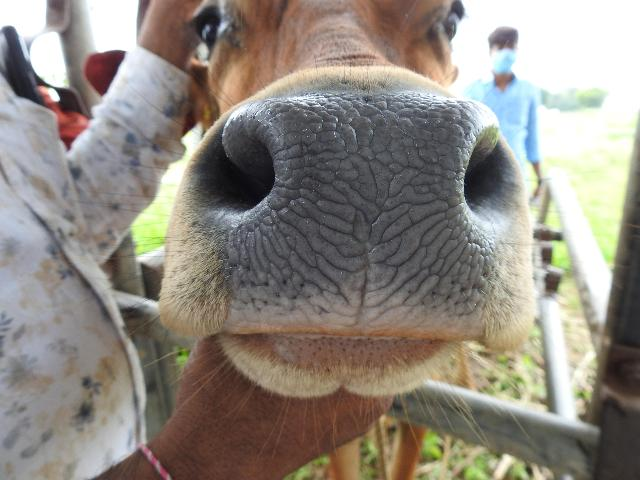Muzzle: (278, 100, 460, 316)
